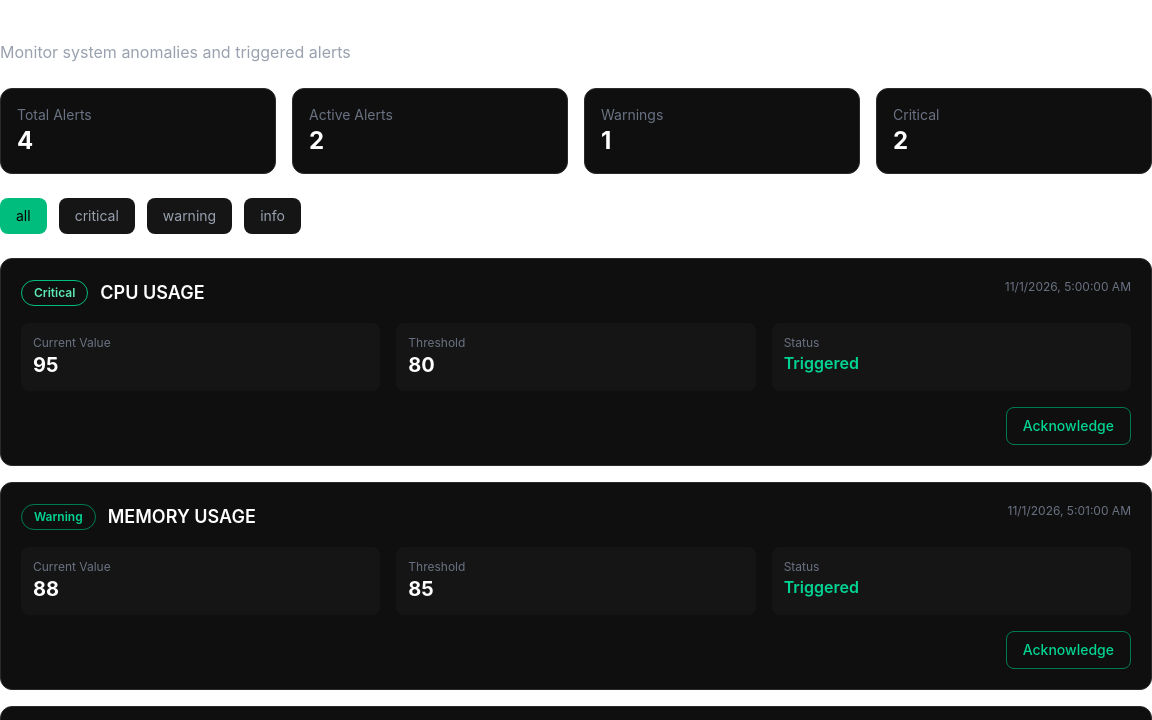
it: AlertHistory page › filters alerts by info severity
This screenshot has width=1152, height=720.
Step 1. Click the button "info" → (272, 216), box [244,198,301,234]
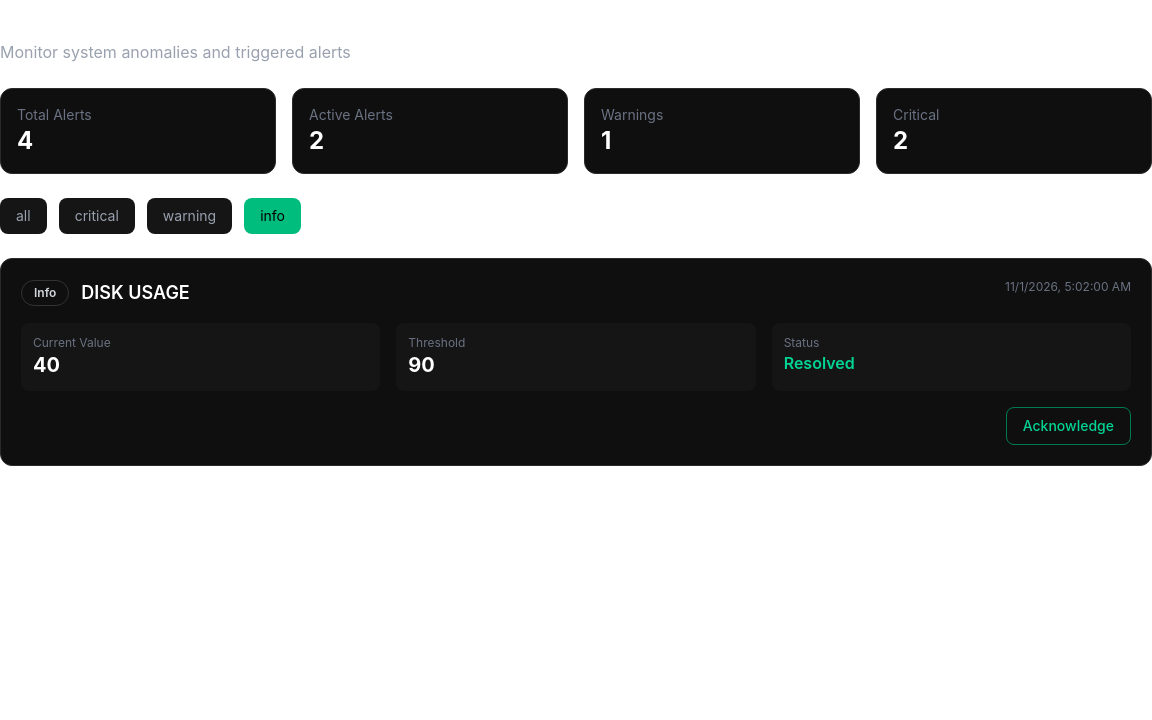
Result: the heading "DISK USAGE" is shown at [81,279,190,307]
Result: the heading "CPU USAGE" is gone
Result: the heading "MEMORY USAGE" is gone
